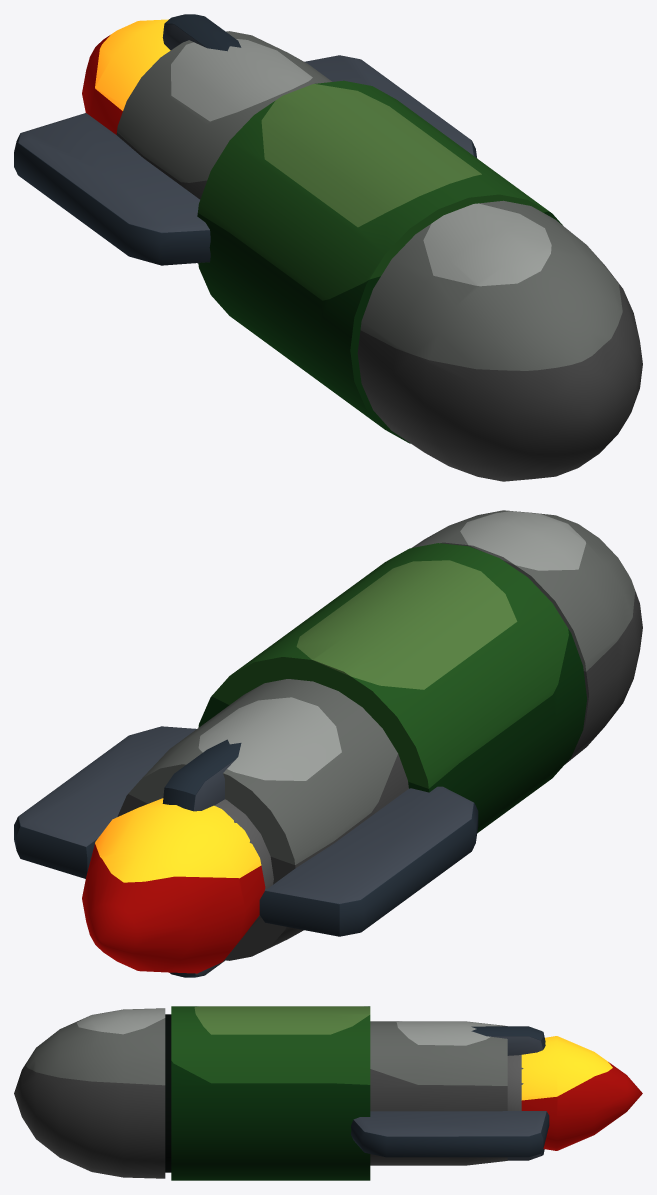
The model's file is slot_rocket_green_152.glb.
The picture shows the model from 3 angles, top to bottom: view 1: azimuth 30°, elevation 25°; view 2: azimuth 150°, elevation 25°; view 3: azimuth 270°, elevation 25°; orthographic projection. The views are drawn at different scales.
Parts seen in each view (by area): view 1: slot_rocket_green_152; view 2: slot_rocket_green_152; view 3: slot_rocket_green_152.
Boxes of the visible parts, x1,y1,x2,y2 form: slot_rocket_green_152: (14,14,642,481); slot_rocket_green_152: (14,510,642,977); slot_rocket_green_152: (14,1006,642,1180).
Size of the model in its own units: 6.5 by 4.4 by 15.8.
